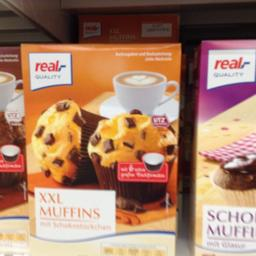cake: (17, 40, 183, 255), (191, 36, 255, 250)
